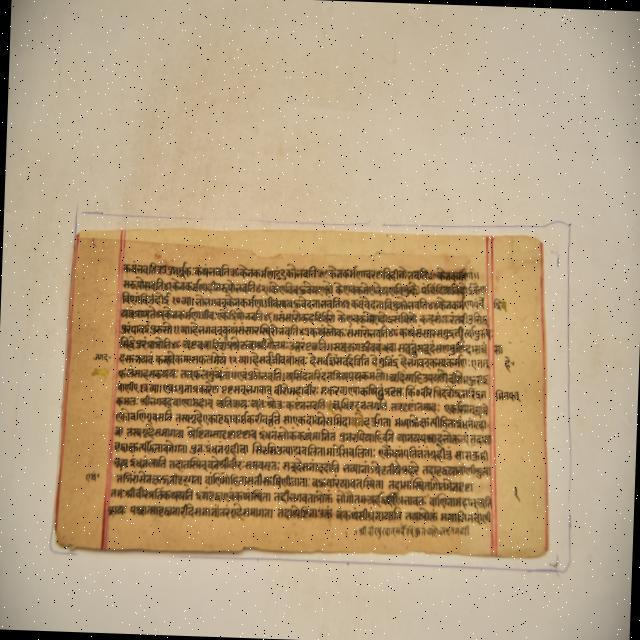text_paragraph: (52, 231, 547, 559)
